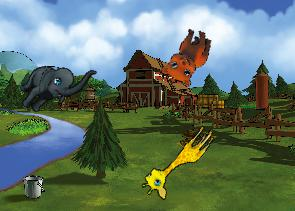bear: (158, 22, 214, 89)
elephant: (12, 41, 97, 130)
giraffe: (137, 116, 218, 204)
